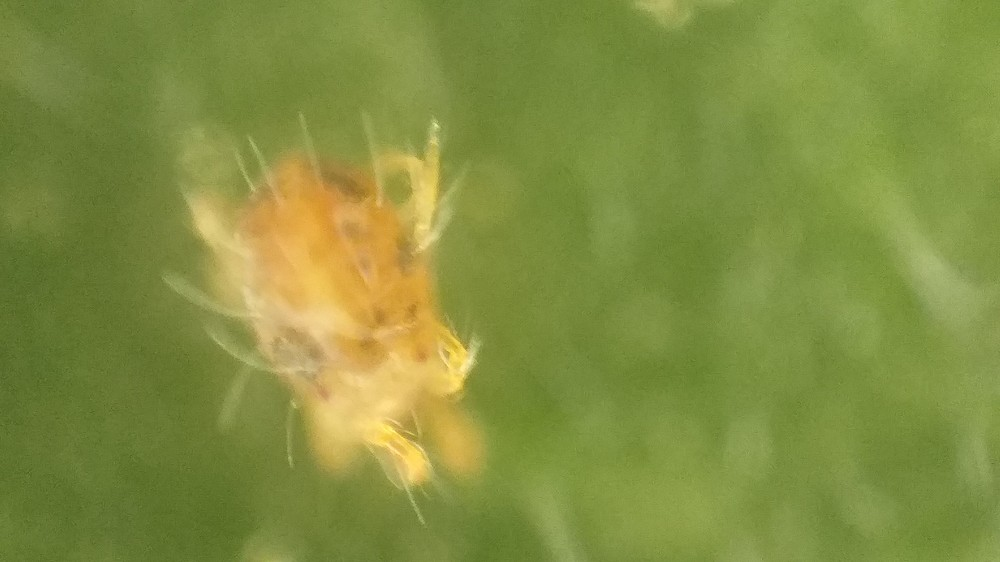Aracnido Rojo: (153, 105, 509, 513)
